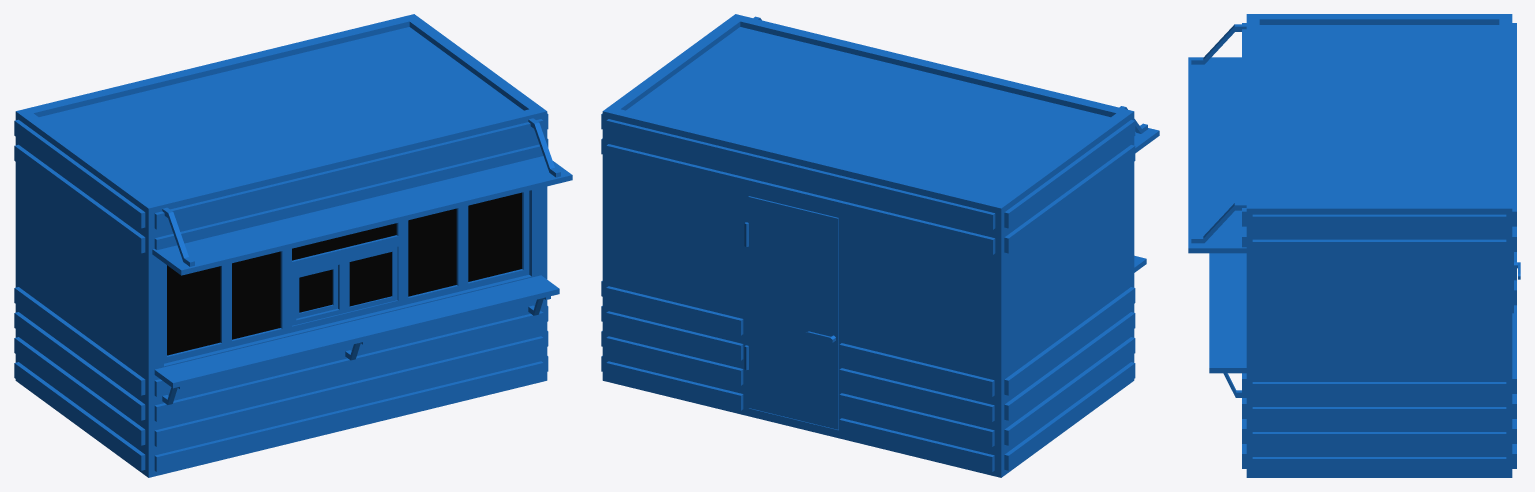
Rendered from SM_shop_ss.fbx.
The picture shows the model from 3 angles, left to right: view 1: azimuth 30°, elevation 25°; view 2: azimuth 150°, elevation 25°; view 3: azimuth 270°, elevation 25°; orthographic projection.
Visible parts, largest first — view 1: Cube_4, Cylinder_1; view 2: Cube_4, Cylinder_1_2; view 3: Cube_4.
Part boxes in pixels (bbox=[...]): Cube_4: bbox=[14, 14, 572, 477]; Cylinder_1: bbox=[296, 265, 337, 318]; Cube_4: bbox=[601, 14, 1159, 477]; Cylinder_1_2: bbox=[744, 196, 838, 429]; Cube_4: bbox=[1188, 14, 1516, 477].
Size of the model in its own units: 409 by 258 by 289.
